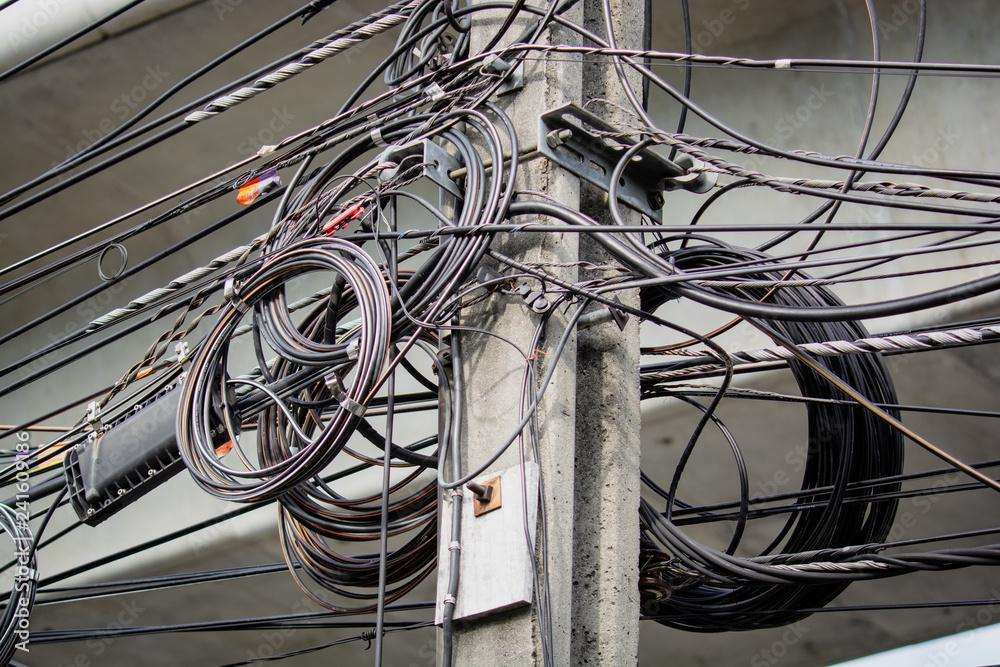wires: (7, 206, 448, 594), (635, 244, 898, 618)
